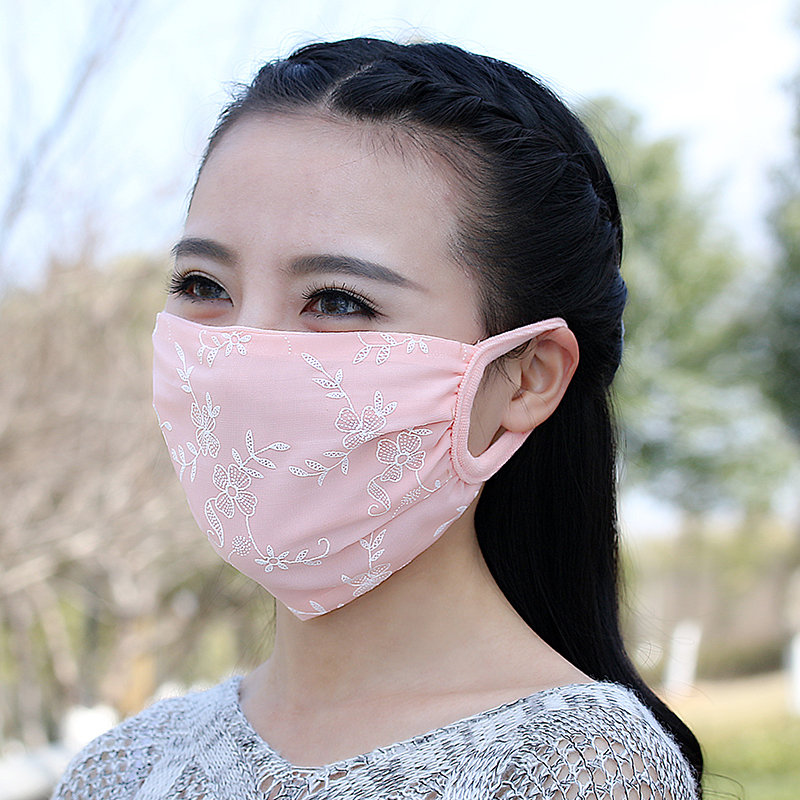face_mask: (156, 129, 475, 567)
